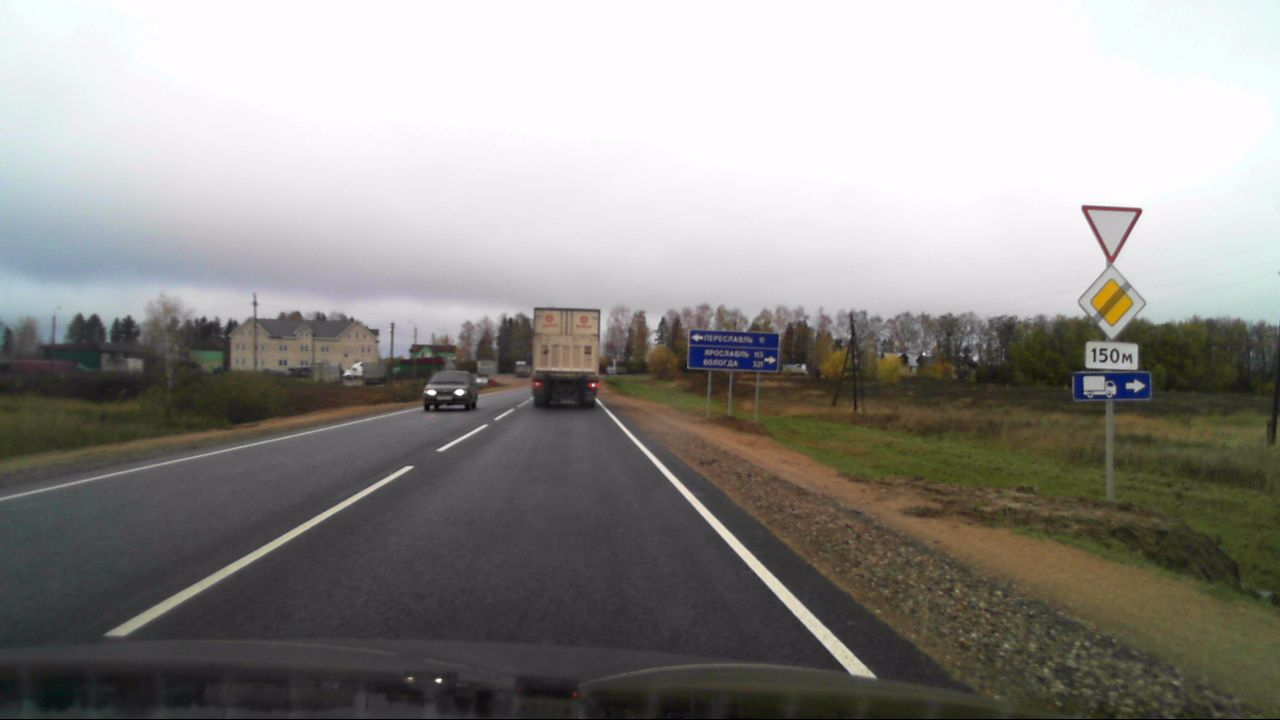main road: (1077, 267, 1145, 342)
